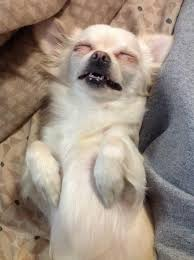chihuahua: (32, 17, 169, 260)
